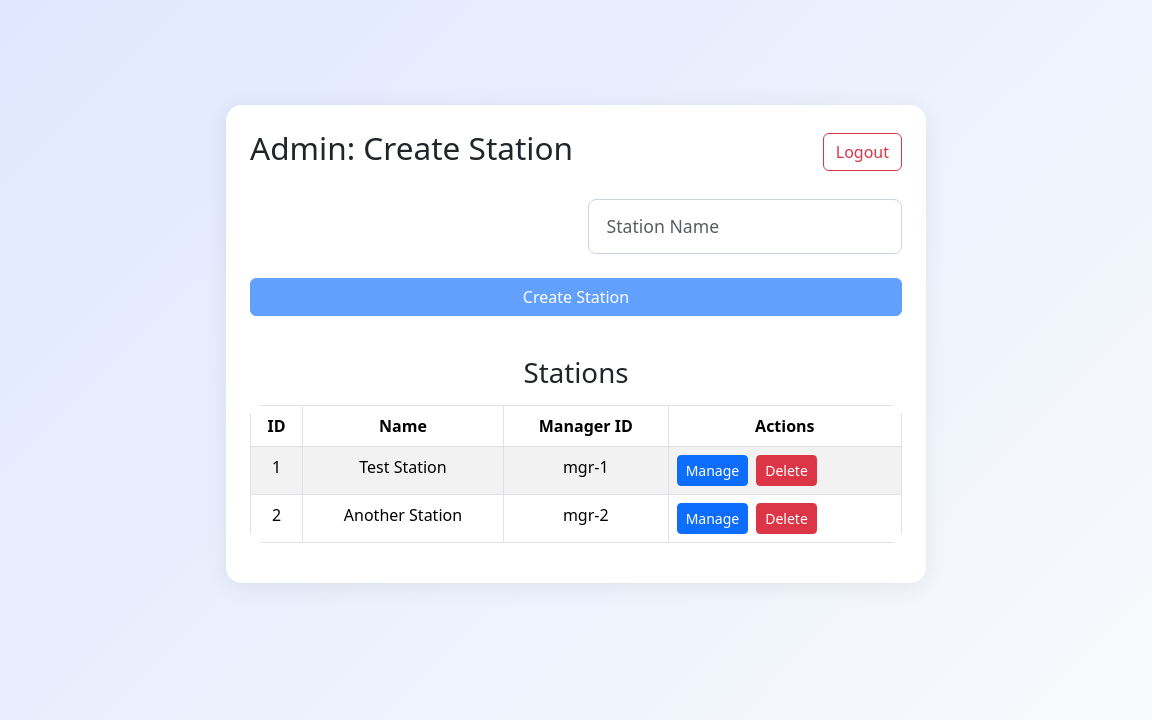
Test case: AdminPanel › Authentication › handles logout correctly
The image size is (1152, 720).
Expected: the heading "Admin: Create Station" is shown, x1=250 y1=129 x2=573 y2=167
Click the button "Logout" at (862, 152), box x1=823 y1=133 x2=902 y2=171
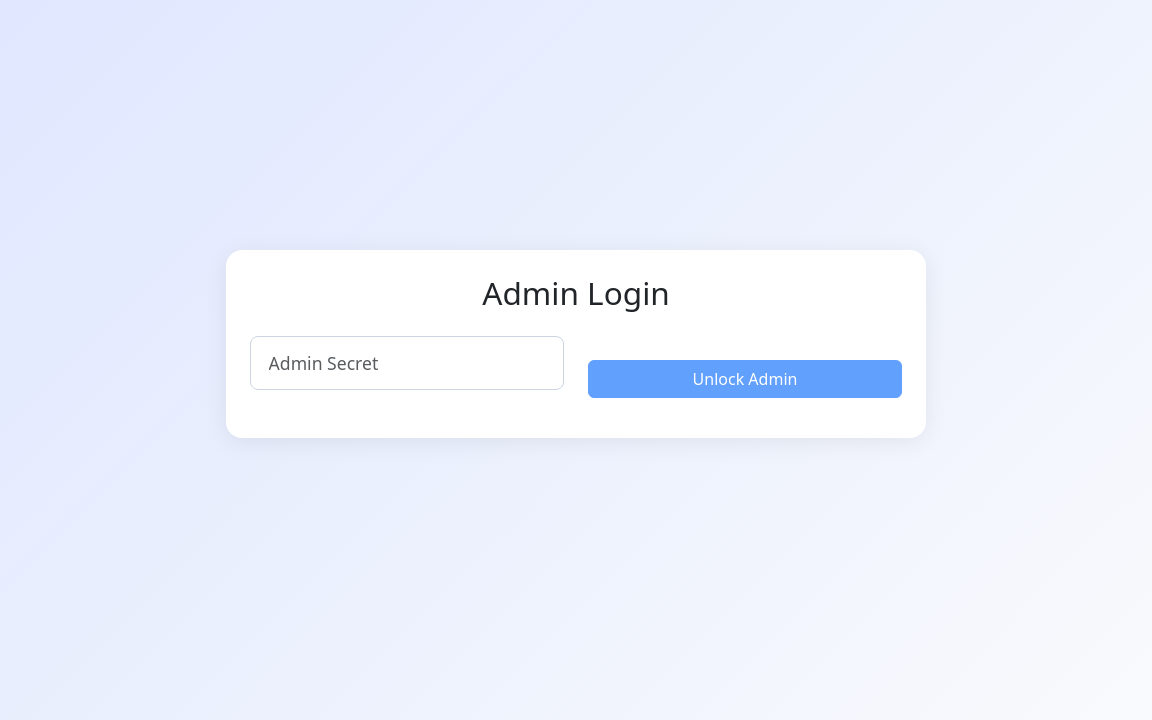
Result: the heading "Admin Login" is shown at x1=482 y1=271 x2=670 y2=314
